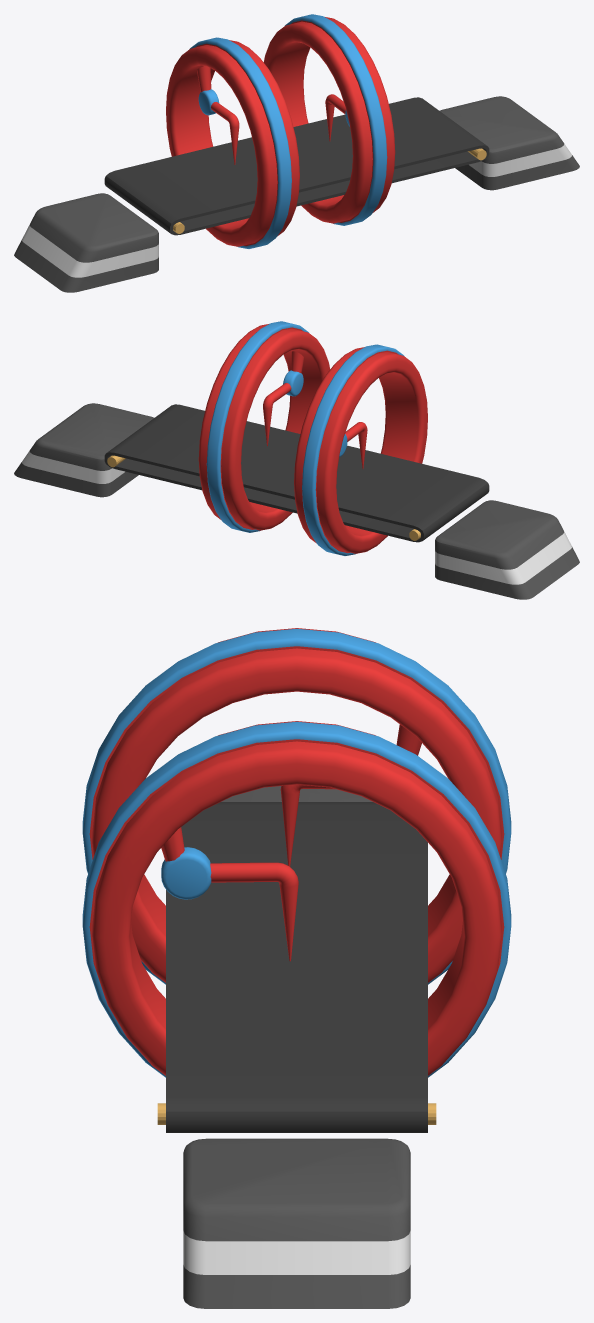
The model's file is makina10.fbx.
3 views of the same model, one above another, from view 1: azimuth 30°, elevation 25°; view 2: azimuth 150°, elevation 25°; view 3: azimuth 270°, elevation 25° (orthographic). The views are drawn at different scales.
Parts seen in each view (by area): view 1: palet, stack, govde2, govde1, kolUSt, igne, igne2; view 2: palet, stack, govde2, govde1, kolUSt2, igne2, igne; view 3: palet, govde1, stack, govde2, igne2, kolUSt2, igne.
Boxes of the visible parts, x1=… form: palet: x1=104, y1=97, x2=489, y2=235; stack: x1=14, y1=96, x2=579, y2=292; govde2: x1=166, y1=37, x2=299, y2=248; govde1: x1=263, y1=14, x2=395, y2=225; kolUSt: x1=197, y1=66, x2=219, y2=115; igne: x1=211, y1=102, x2=239, y2=164; igne2: x1=325, y1=94, x2=345, y2=141; palet: x1=104, y1=404, x2=489, y2=542; stack: x1=14, y1=403, x2=579, y2=599; govde2: x1=294, y1=344, x2=427, y2=555; govde1: x1=198, y1=321, x2=330, y2=532; kolUSt2: x1=283, y1=351, x2=304, y2=396; igne2: x1=263, y1=383, x2=291, y2=445; igne: x1=345, y1=422, x2=367, y2=468; palet: x1=157, y1=802, x2=436, y2=1132; govde1: x1=82, y1=721, x2=511, y2=1077; stack: x1=183, y1=786, x2=410, y2=1308; govde2: x1=82, y1=628, x2=511, y2=984; igne2: x1=210, y1=862, x2=298, y2=961; kolUSt2: x1=161, y1=827, x2=211, y2=899; igne: x1=280, y1=784, x2=335, y2=866.
Bounding box in the file's own units: 611 × 219 × 219.
